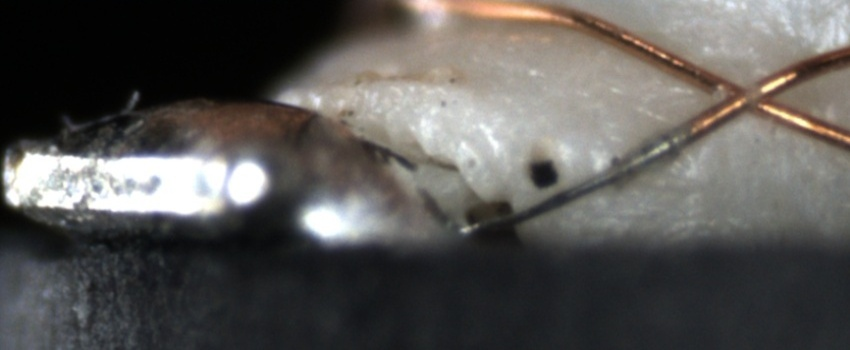CL: (700, 64, 797, 127)
DL: (602, 169, 698, 207)
TS: (454, 125, 693, 237)
TTCW: (455, 98, 737, 236)
